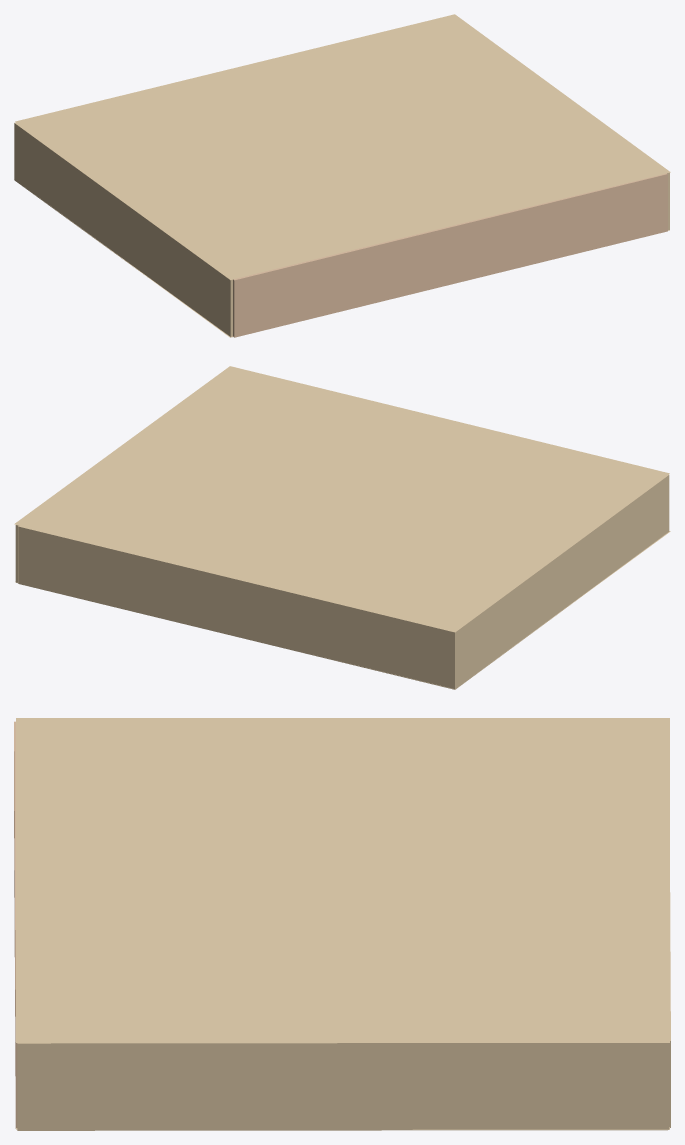
The model's file is Cat_room_v001.fbx.
3 renders of one model, top to bottom at view 1: azimuth 30°, elevation 25°; view 2: azimuth 150°, elevation 25°; view 3: azimuth 270°, elevation 25°, orthographic. The views are drawn at different scales.
Parts seen in each view (by area): view 1: Ceiling, Back_Wall, Left_wall; view 2: Ceiling, Front_wall, Left_wall; view 3: Ceiling, Right_wall, Back_Wall.
Boxes of the visible parts, x1,y1,x2,y2 form: Ceiling: (15, 14, 670, 279); Back_Wall: (233, 173, 667, 337); Left_wall: (14, 122, 232, 337); Ceiling: (14, 366, 669, 631); Front_wall: (18, 525, 452, 689); Left_wall: (452, 474, 669, 689); Ceiling: (16, 718, 669, 1042); Right_wall: (17, 1043, 669, 1130); Back_Wall: (14, 721, 17, 1128).
Size of the model in its own units: 4910 by 620 by 4187.
